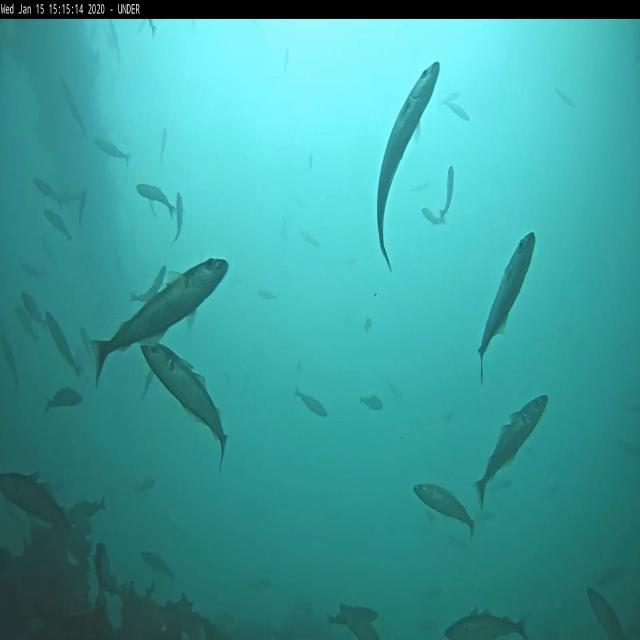fish: (96, 255, 230, 384), (376, 61, 441, 270), (138, 341, 227, 466), (472, 392, 548, 514), (479, 232, 535, 385), (413, 479, 476, 540), (444, 606, 528, 640), (47, 312, 85, 378), (94, 541, 128, 606), (586, 587, 624, 639), (340, 602, 380, 638), (62, 80, 87, 134), (138, 183, 178, 216), (138, 547, 174, 583), (0, 332, 21, 390), (65, 496, 106, 525), (294, 385, 330, 418), (328, 608, 380, 628), (94, 140, 130, 166), (42, 210, 72, 240), (44, 385, 82, 408), (22, 292, 47, 326), (16, 307, 38, 339), (33, 178, 58, 202), (173, 191, 184, 245), (109, 20, 122, 64), (422, 206, 448, 226), (444, 100, 470, 119), (360, 393, 384, 411), (23, 262, 50, 278), (298, 230, 322, 248), (41, 242, 58, 266), (554, 86, 574, 105), (446, 168, 456, 206), (160, 126, 168, 166), (80, 327, 92, 352), (78, 190, 86, 227), (258, 290, 278, 302), (442, 92, 460, 104), (363, 315, 372, 335), (282, 50, 288, 74)
